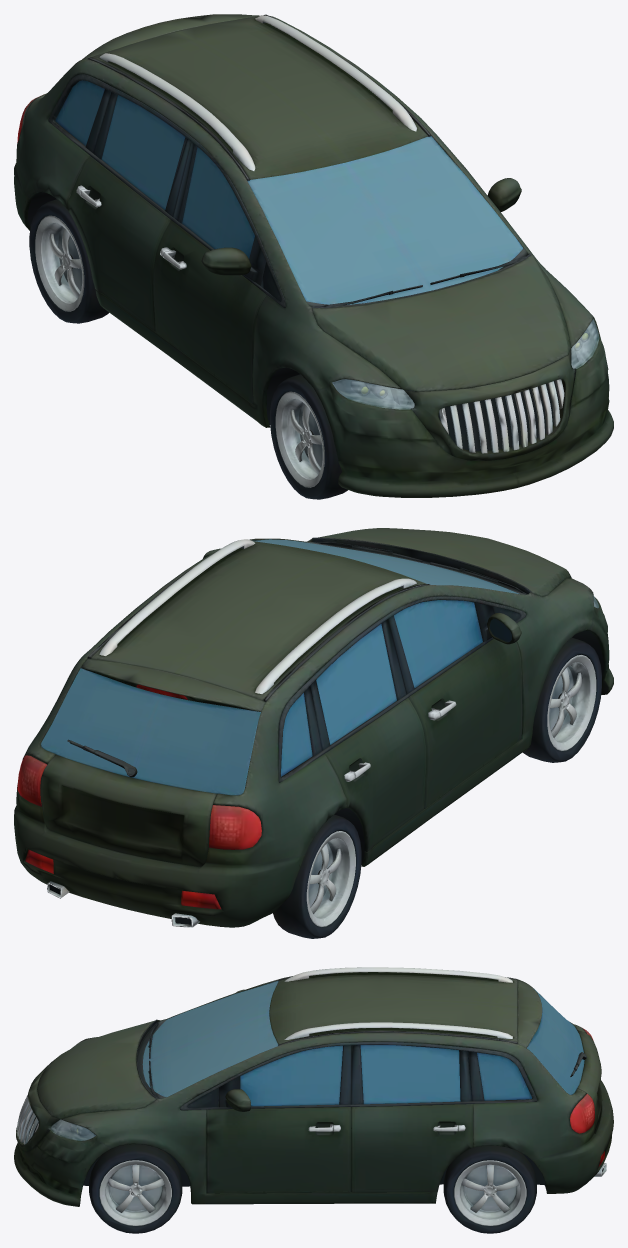
Rendered from suv.glb.
3 views of the same model, one above another, from view 1: azimuth 30°, elevation 25°; view 2: azimuth 150°, elevation 25°; view 3: azimuth 270°, elevation 25° (orthographic). The views are drawn at different scales.
Visible parts, largest first — view 1: suv.2, suv_glass.3; view 2: suv.2; view 3: suv.2, suv_glass.3.
Boxes of the visible parts, x1,y1,x2,y2 form: suv.2: (14, 14, 613, 499); suv_glass.3: (332, 319, 599, 409); suv.2: (14, 528, 613, 938); suv.2: (14, 967, 613, 1233); suv_glass.3: (51, 1119, 95, 1140).
Bounding box in the file's own units: 1.42 × 1.12 × 3.18.
2 materials, 2 textured.
